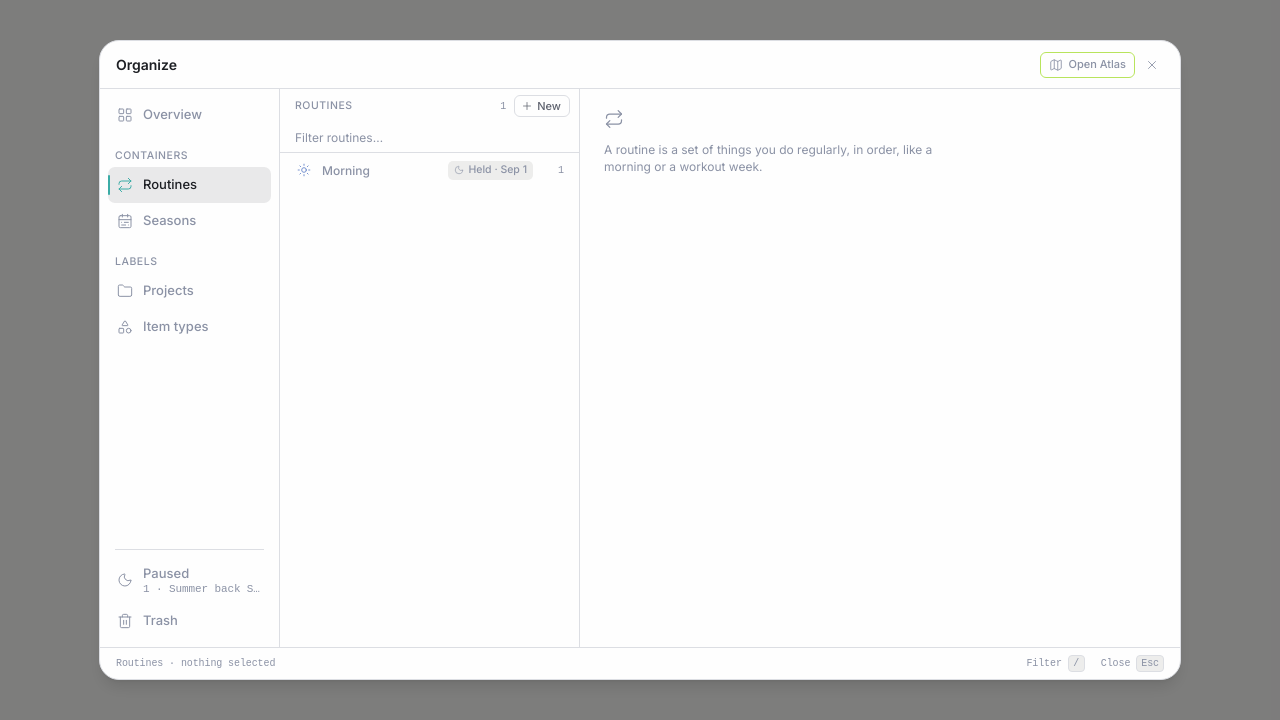
Test: a routine a season is holding off › says who is overruling it, and when its items come back
The width and height of the screenshot is (1280, 720).
Click the button with test id "routine-row" at (346, 170), box [288,153,571,187]
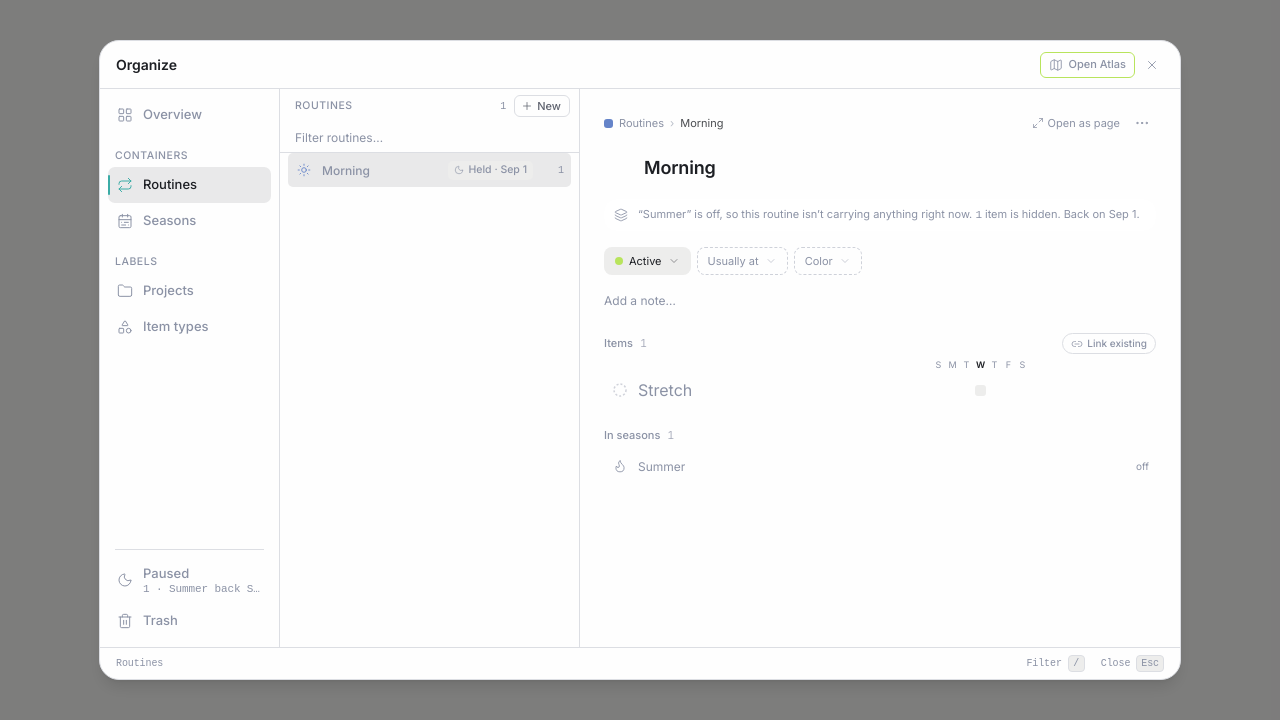
Expected: the element with test id "routine-held-note" shows "“Summer” is off", [638,207,972,221]
Expected: the element with test id "routine-held-note" shows "this routine isn’t carrying anything", [638,207,972,221]
Expected: the element with test id "routine-held-note" shows "1 item is hidden", [604,199,1156,231]
